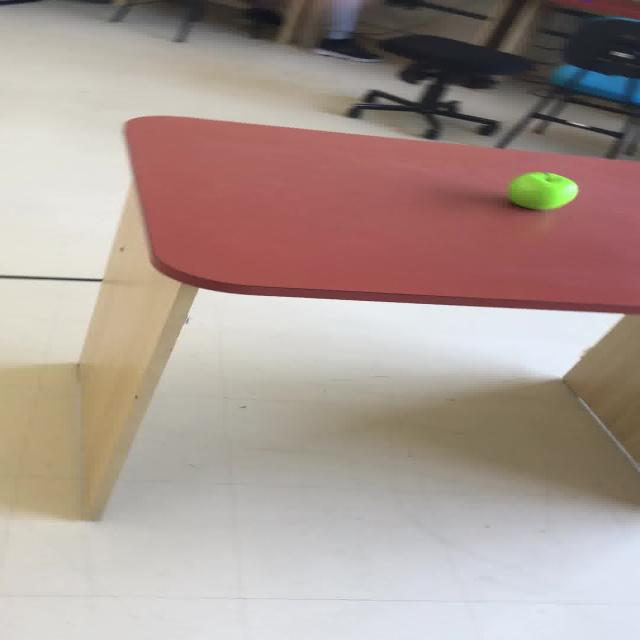apple: (505, 171, 578, 210)
